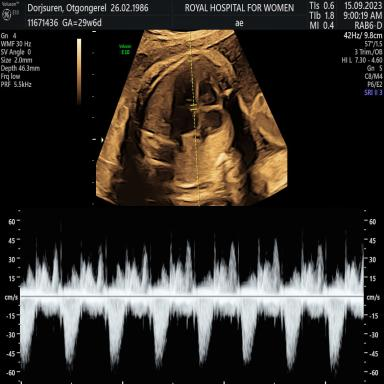Ultrasound-Waves: (25, 215, 361, 384)
